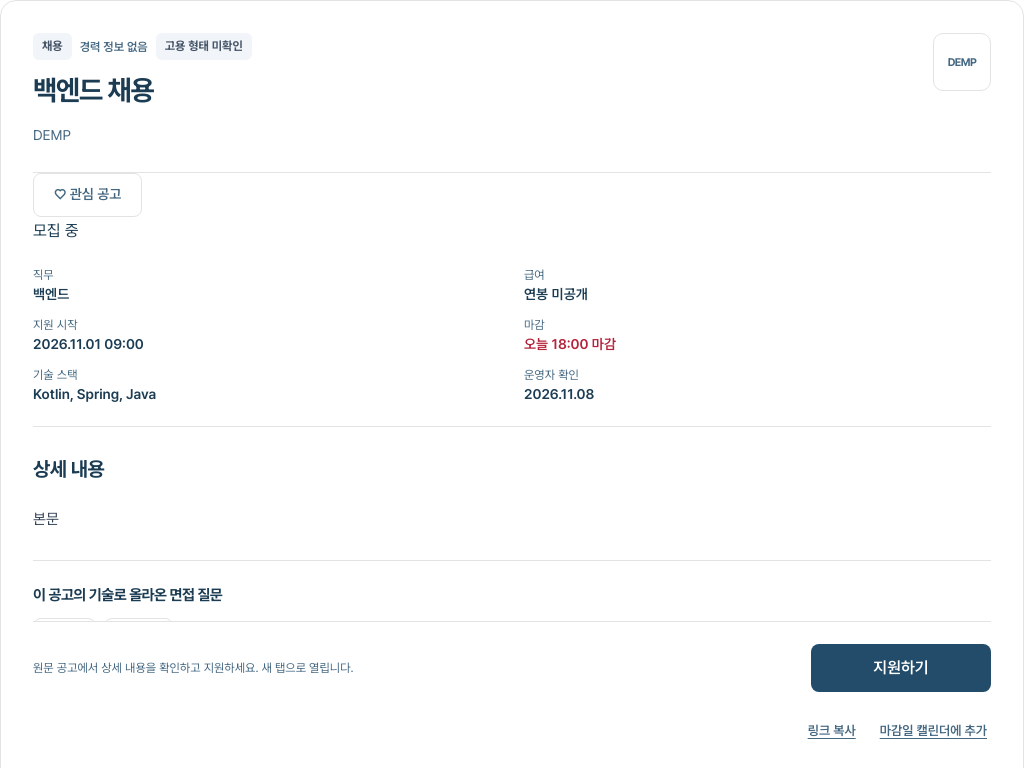
Test: 링크 복사는 검색 조건 없는 상세 주소를 복사하고 결과를 알려준다
Click the button with test id "copy-link": (832, 730) [804,708,860,752]
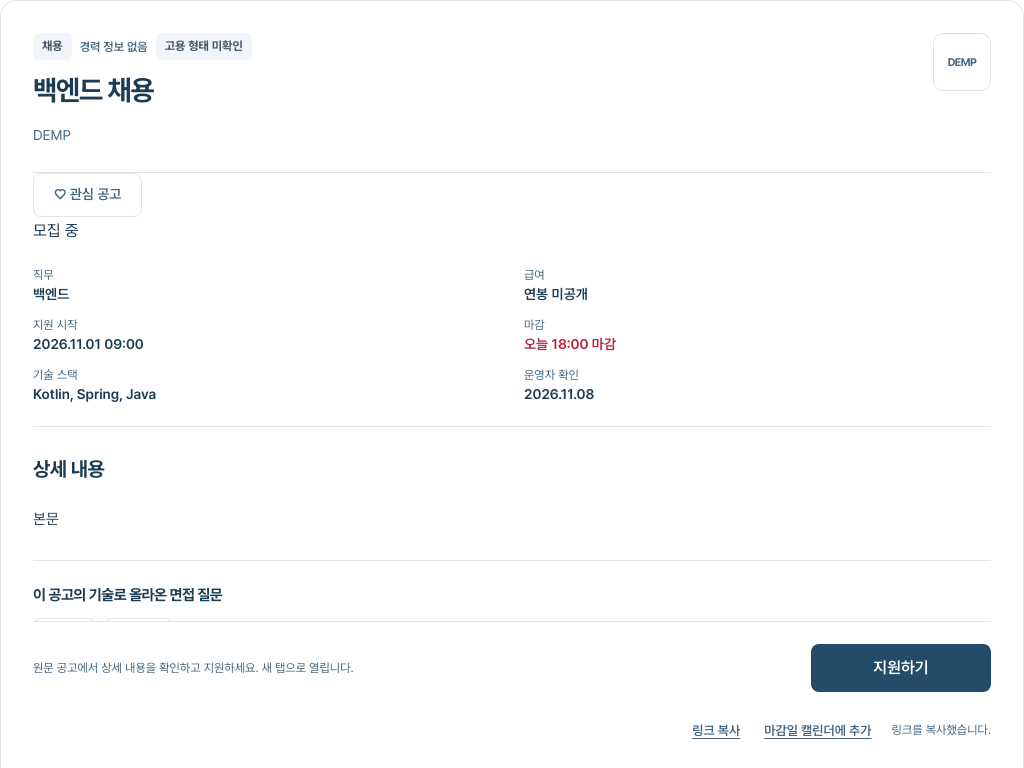
Result: the message with test id "copy-status" reads "링크를 복사했습니다." at [892,723,991,737]
Click the button with test id "copy-link": (716, 730) [688,708,744,752]
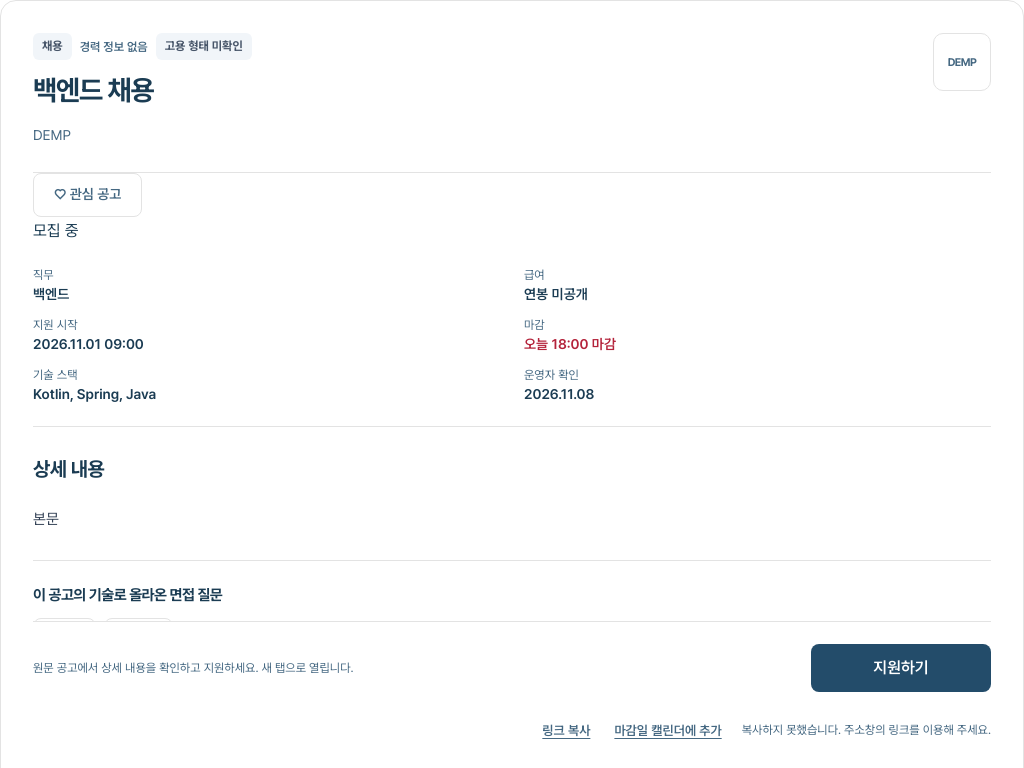
Result: the message with test id "copy-status" reads "복사하지 못했습니다. 주소창의 링크를 이용해 주세요." at [742,723,991,737]
